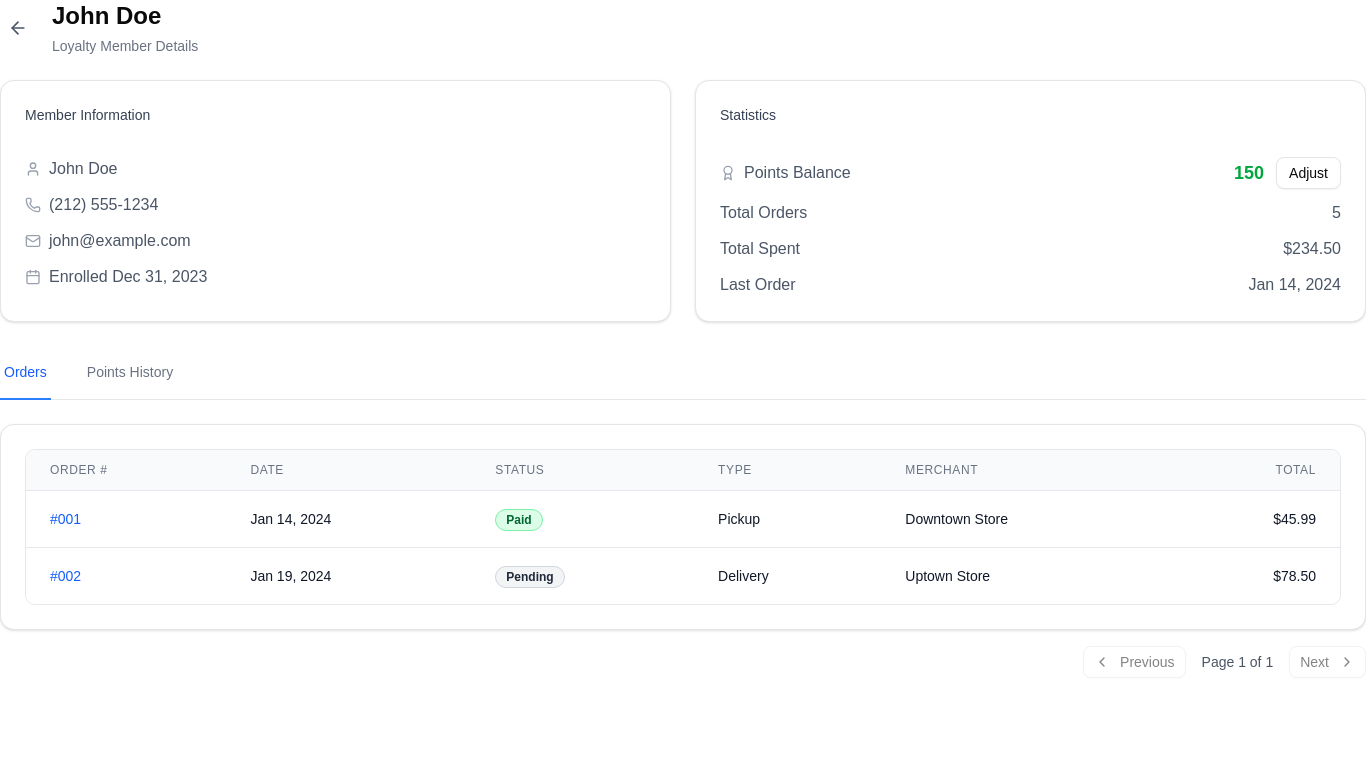
Scenario: LoyaltyMemberDetailClient › Adjust Points Modal › should open adjust points modal when Adjust button is clicked
Click the button "Adjust". click: {"x": 1309, "y": 173}
box: [1276, 157, 1341, 189]
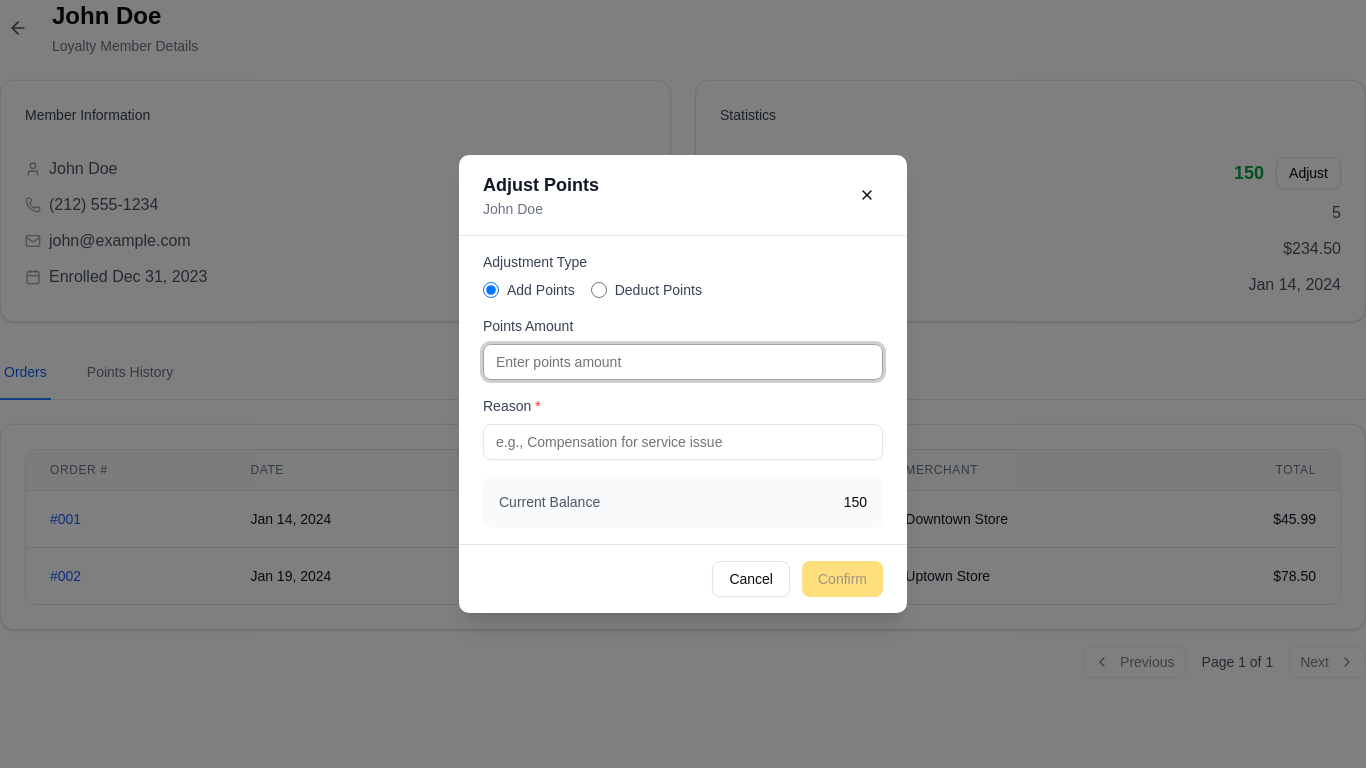
Result: the heading "Adjust Points" is shown at [483, 171, 599, 199]
